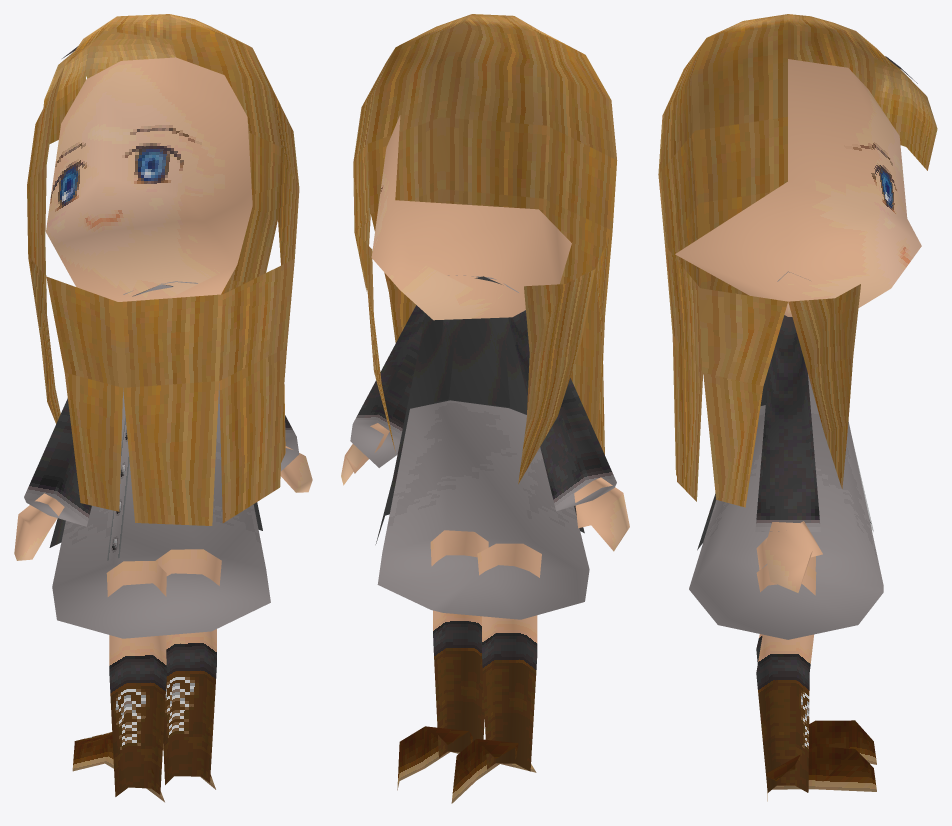
File: ps2_save-icons_simple2000seriesvol9therenaiadventurebittersweetfools.glb
The picture shows the model from 3 angles, left to right: view 1: azimuth 30°, elevation 25°; view 2: azimuth 150°, elevation 25°; view 3: azimuth 270°, elevation 25°; orthographic projection. The views are drawn at different scales.
Visible parts, largest first — view 1: ICON.ICO; view 2: ICON.ICO; view 3: ICON.ICO.
Part boxes in pixels (<box>): ICON.ICO: <box>14,14,312,802</box>; ICON.ICO: <box>341,14,629,803</box>; ICON.ICO: <box>658,14,937,801</box>.
Bounding box in the file's own units: 1.84 × 4.62 × 1.54.
Materials: 1 (1 with a texture image).
